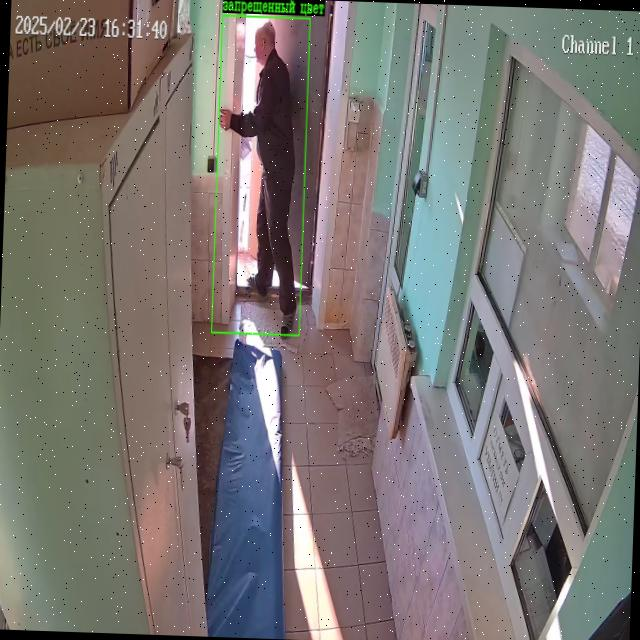Person: (219, 21, 295, 332)
